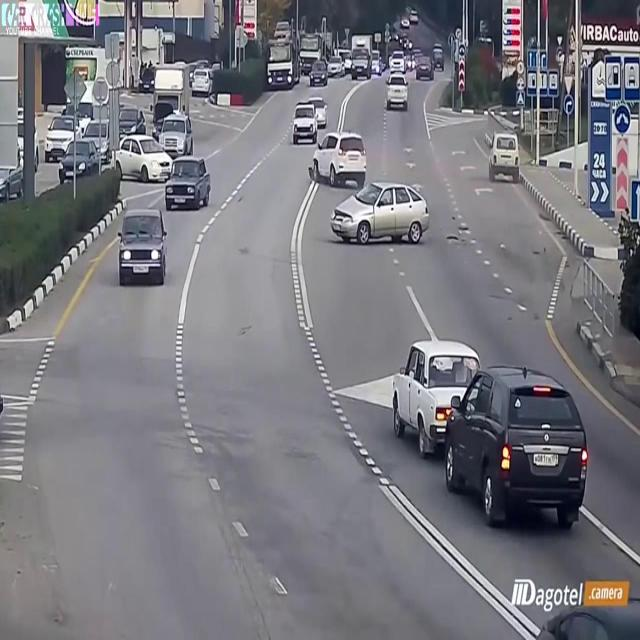accident: (306, 125, 436, 251)
non_accident: (388, 328, 592, 542), (42, 55, 214, 217), (289, 90, 329, 143)
